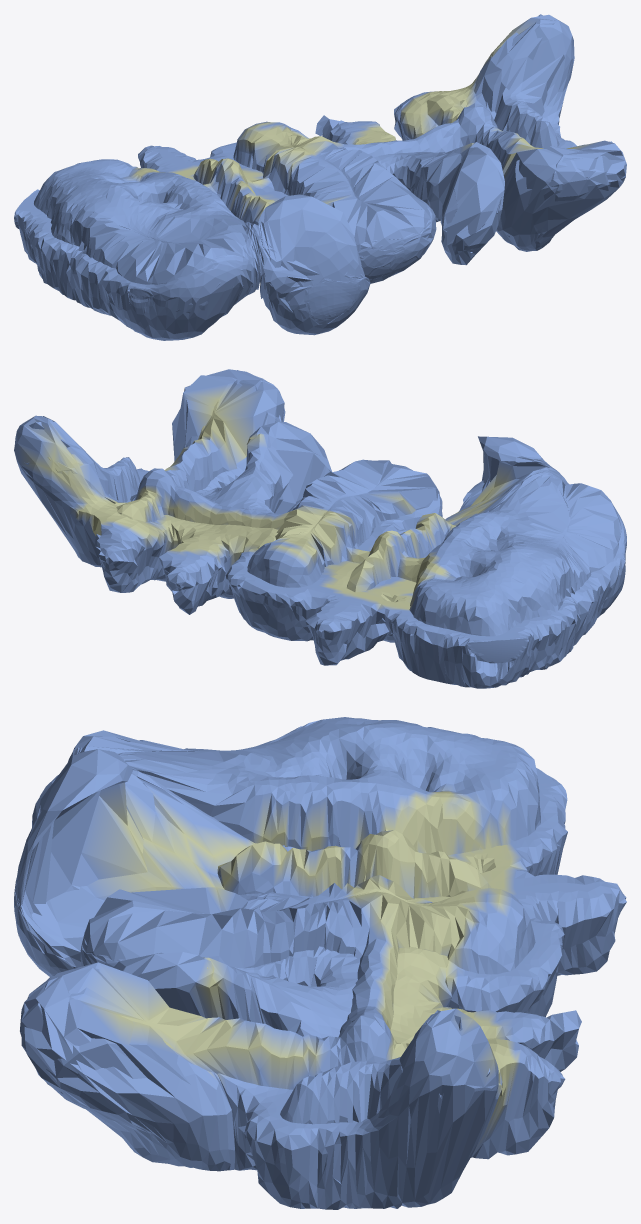
The picture shows the model from 3 angles, top to bottom: view 1: azimuth 30°, elevation 25°; view 2: azimuth 150°, elevation 25°; view 3: azimuth 270°, elevation 25°; orthographic projection. The views are drawn at different scales.
Visible parts, largest first — view 1: Mesh; view 2: Mesh; view 3: Mesh.
Boxes of the visible parts, bbox=[...] form: Mesh: bbox=[14, 14, 626, 340]; Mesh: bbox=[14, 369, 626, 688]; Mesh: bbox=[14, 717, 626, 1209].
Bounding box in the file's own units: 146 × 38.4 × 89.32.
